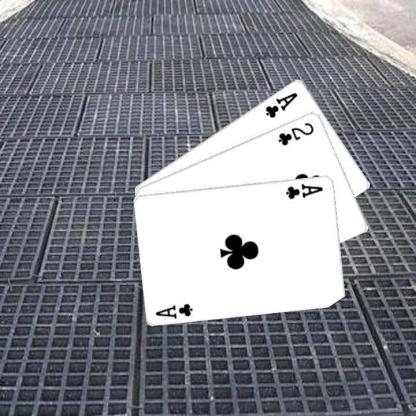2C: (275, 119, 316, 146)
AC: (262, 90, 300, 119), (153, 300, 195, 320), (284, 180, 324, 200)
